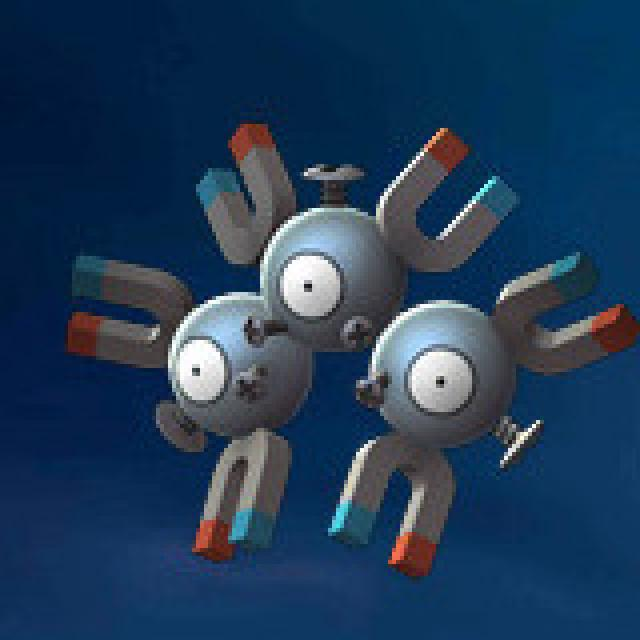Magneton: (112, 116, 560, 546)
